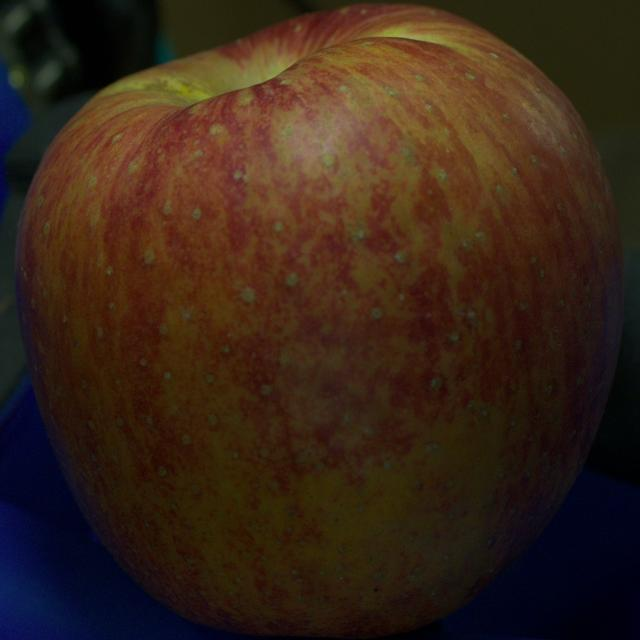apple: (16, 4, 622, 637)
